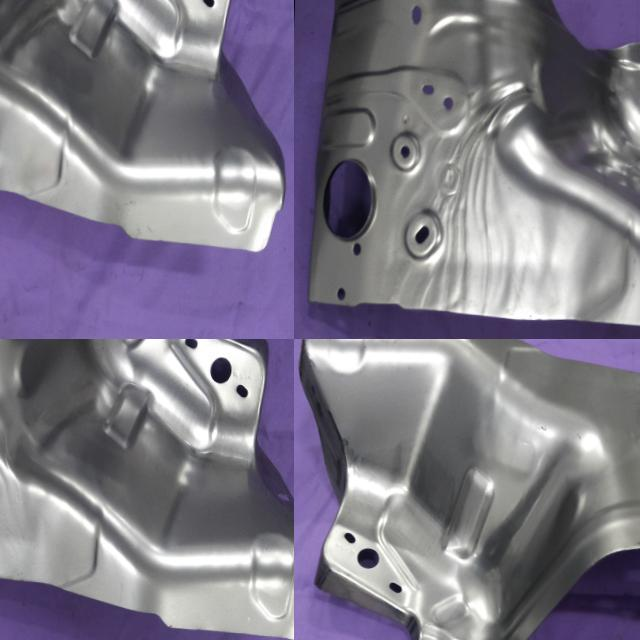Defect: (524, 0, 640, 76)
Healthy: (0, 339, 294, 640)
rust: (593, 531, 640, 558)
